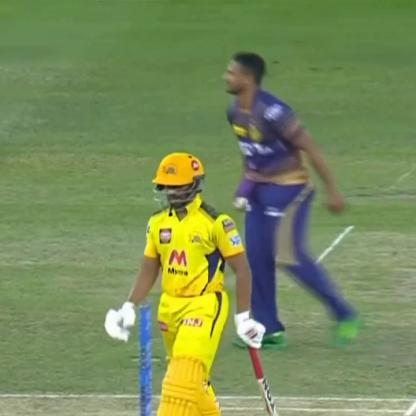ball: (231, 192, 256, 209)
